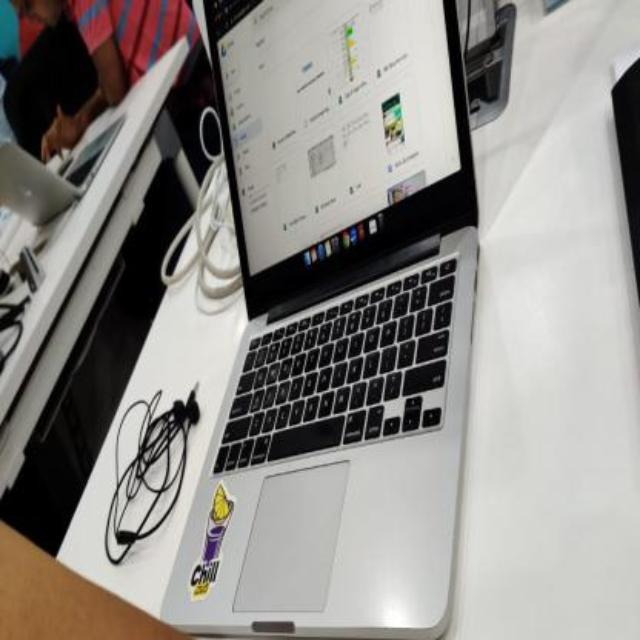Laptop: (156, 1, 477, 640), (3, 112, 133, 226)
